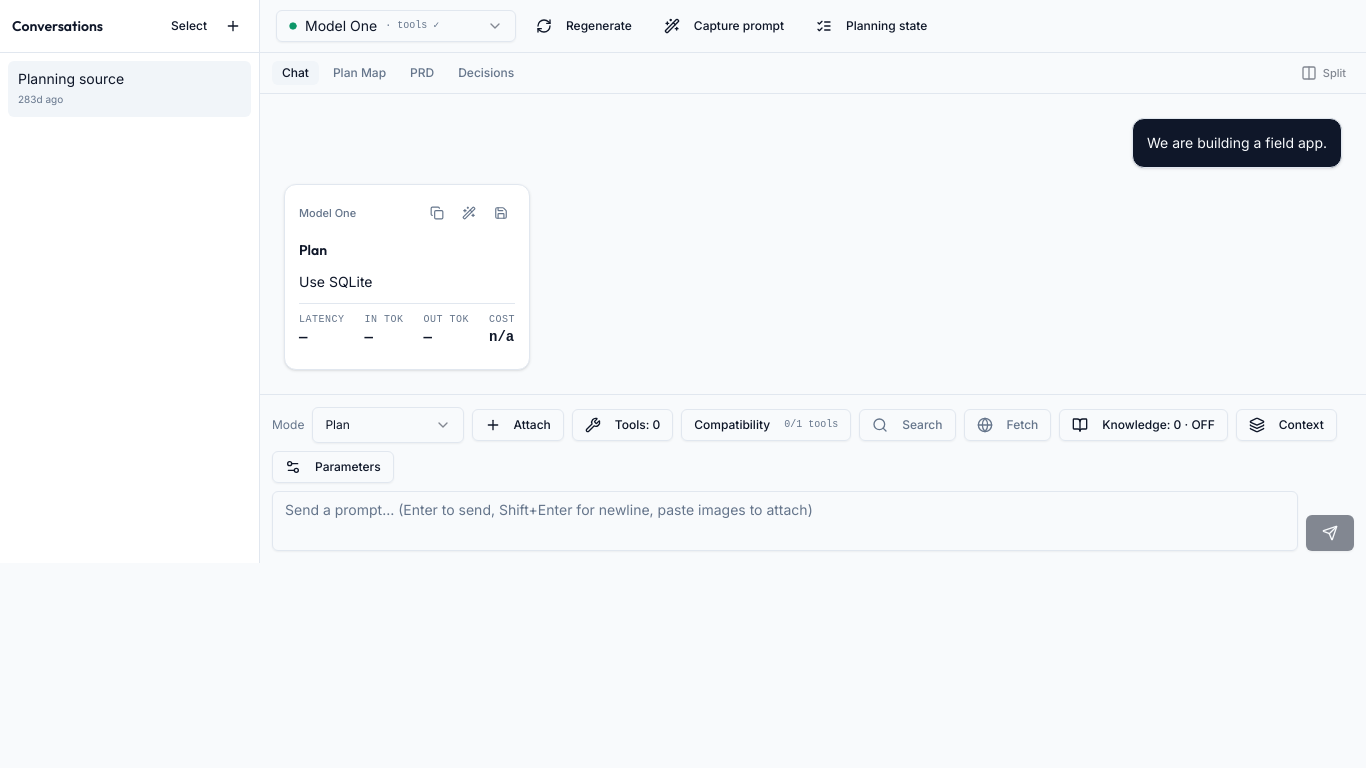
Test case: selecting the Plan Map tab renders the real plan map and hides the composer
The width and height of the screenshot is (1366, 768).
Step 1. Click the button with test id "workspace-plan-tab-plan-map" → coordinates (359, 73), box [323,61,396,85]
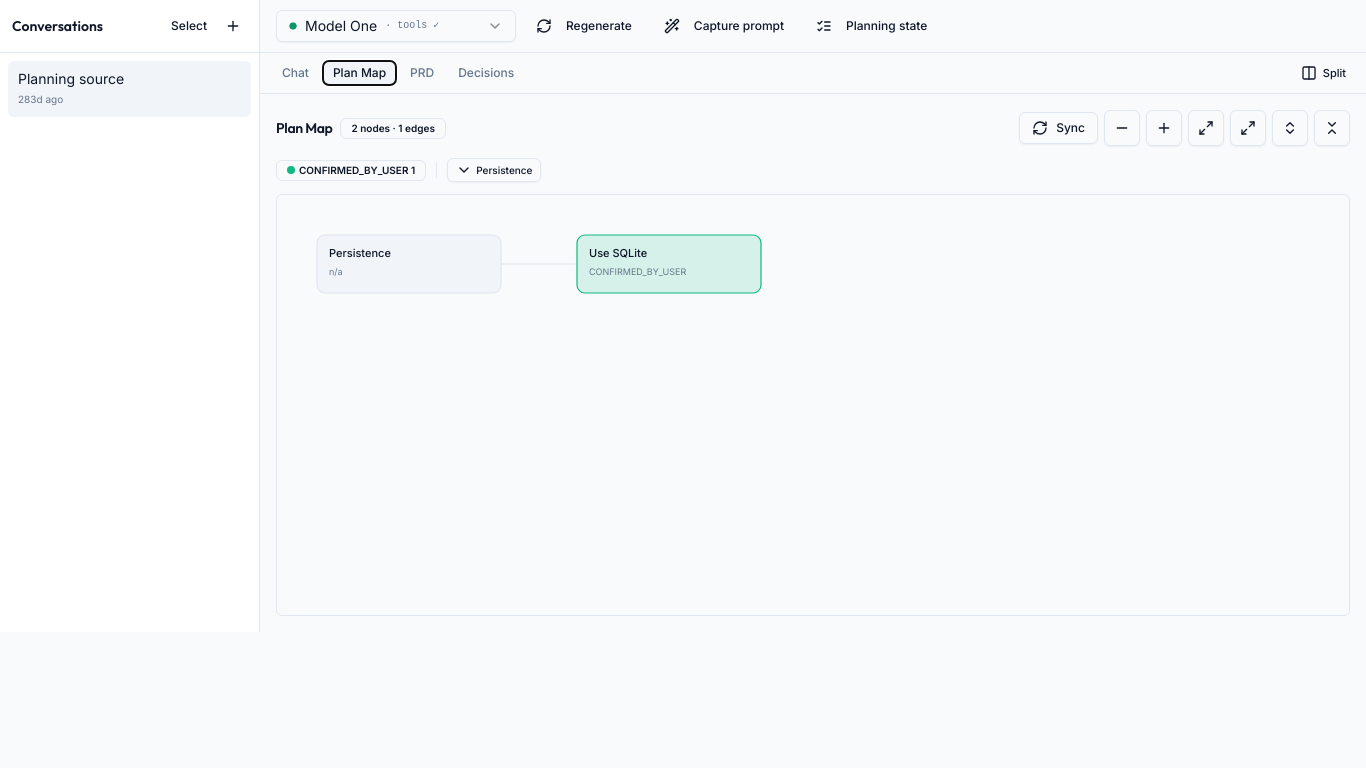
Now the element with test id "workspace-plan-plan-map" is shown, box [260,94,1365,632]
Now the element with test id "plan-map" is shown, box [276,110,1350,616]
Now the text box with test id "workspace-input" is gone
